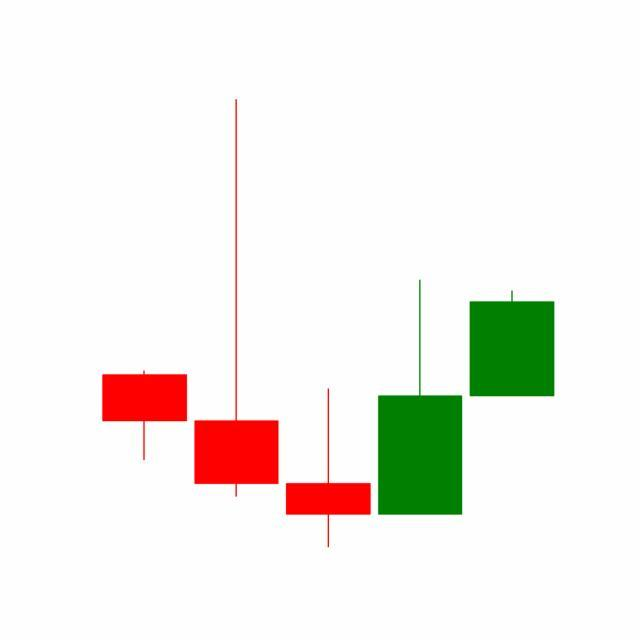Marubozu: (466, 290, 559, 398)
